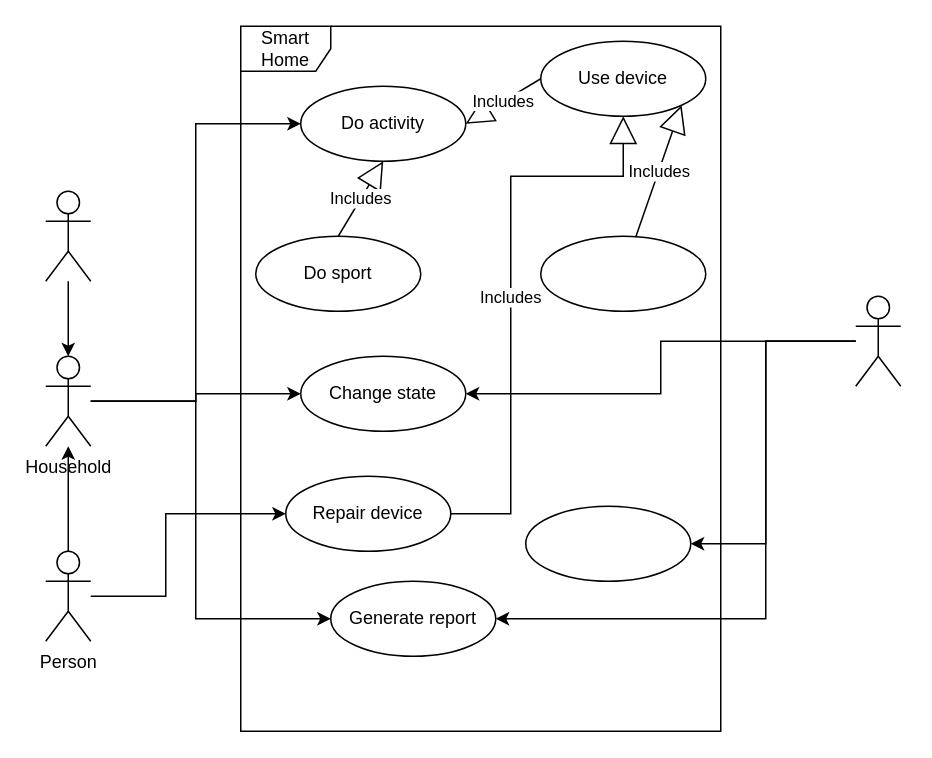
Image size: 932x758. Some labels were removed from this diagram. Here are the shapes that lost their labels. From the top down, the centre of each, then its label:
At point (67, 235): "Animal".
At point (622, 273): "Break device".
At point (877, 340): "Device".
At point (607, 543): "Collect data".
